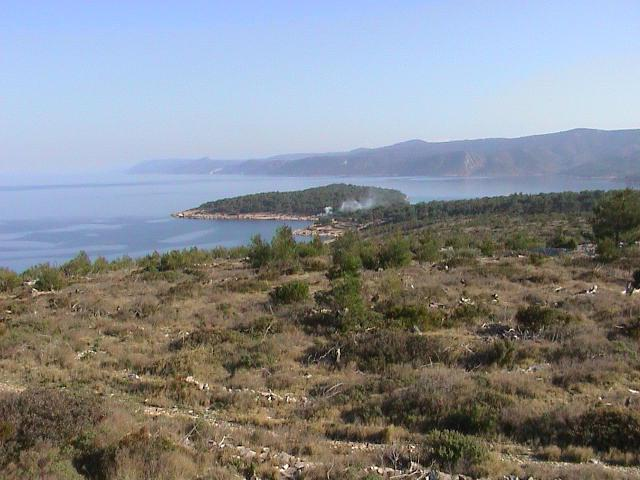Smoke: (337, 193, 389, 214)
